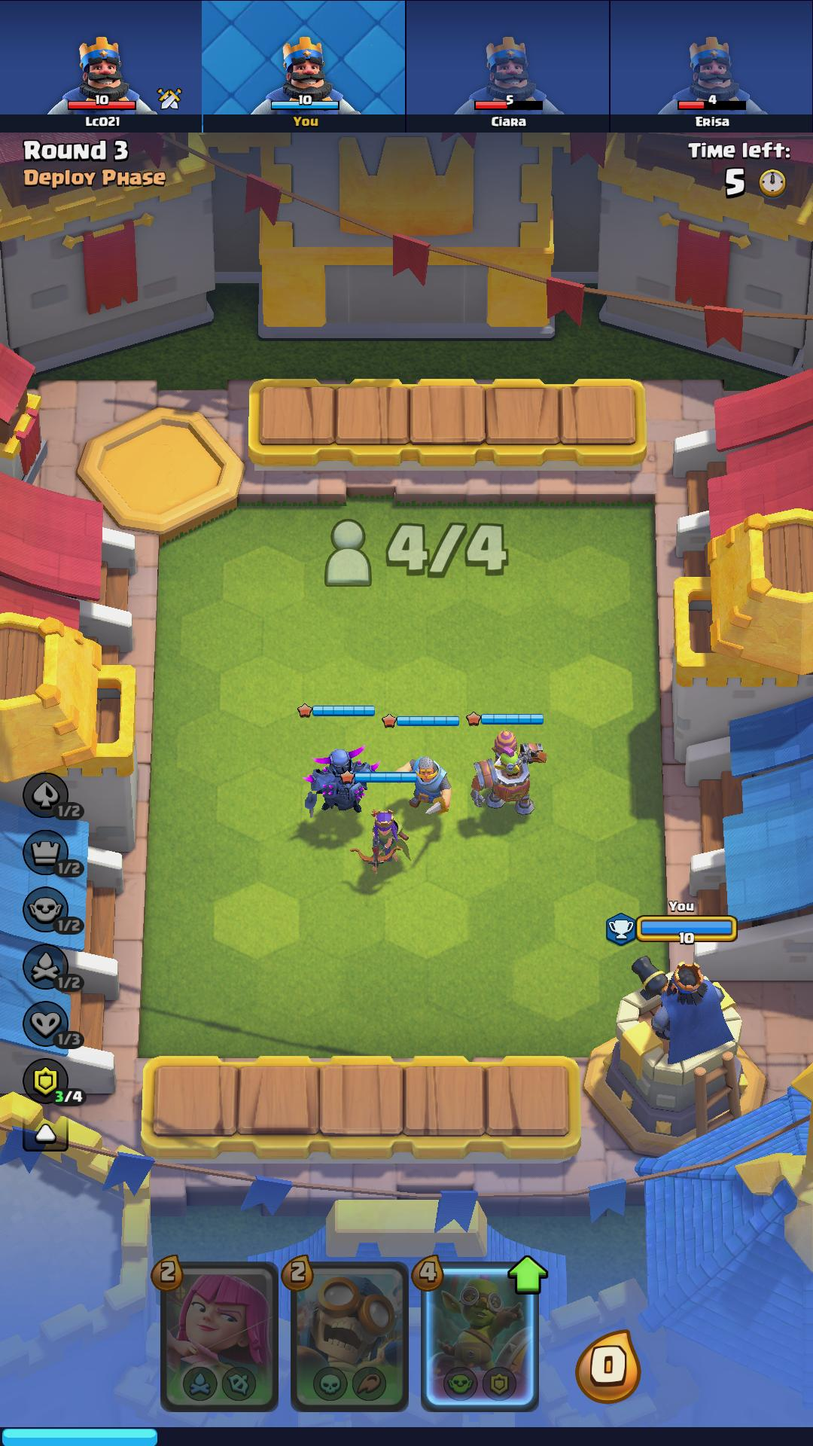knight: (394, 741, 455, 822)
machine: (467, 727, 553, 831)
pekka: (294, 737, 379, 823)
queen: (345, 801, 418, 880)
